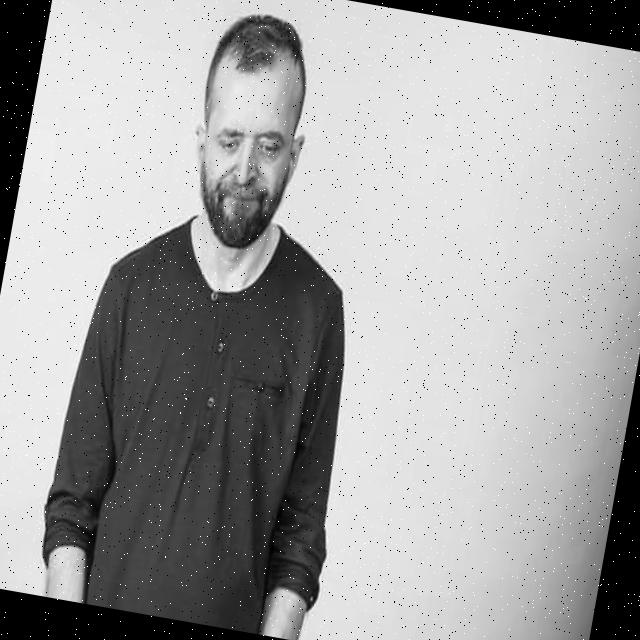Sadness: (188, 60, 306, 251)
